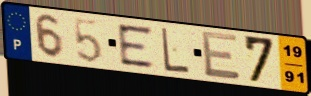5: (72, 16, 105, 64)
6: (33, 13, 66, 60)
7: (242, 34, 277, 85)
E: (199, 29, 243, 82), (115, 23, 157, 70)
L: (160, 26, 192, 75)
